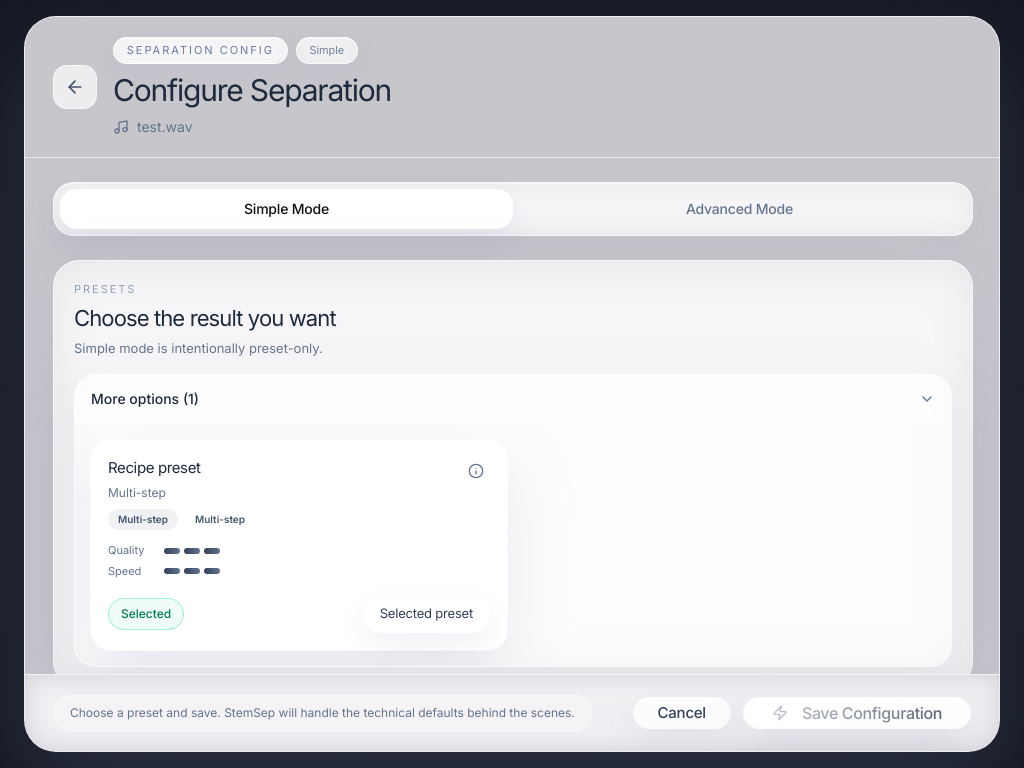
Test: Simple Mode UX (multi-step + details) › Preset cards use an info icon tooltip (no Details button)
The width and height of the screenshot is (1024, 768).
Hover over the button named "preset info: recipe preset" at point(476, 471), box top-left (462, 457), bottom-right (490, 485)
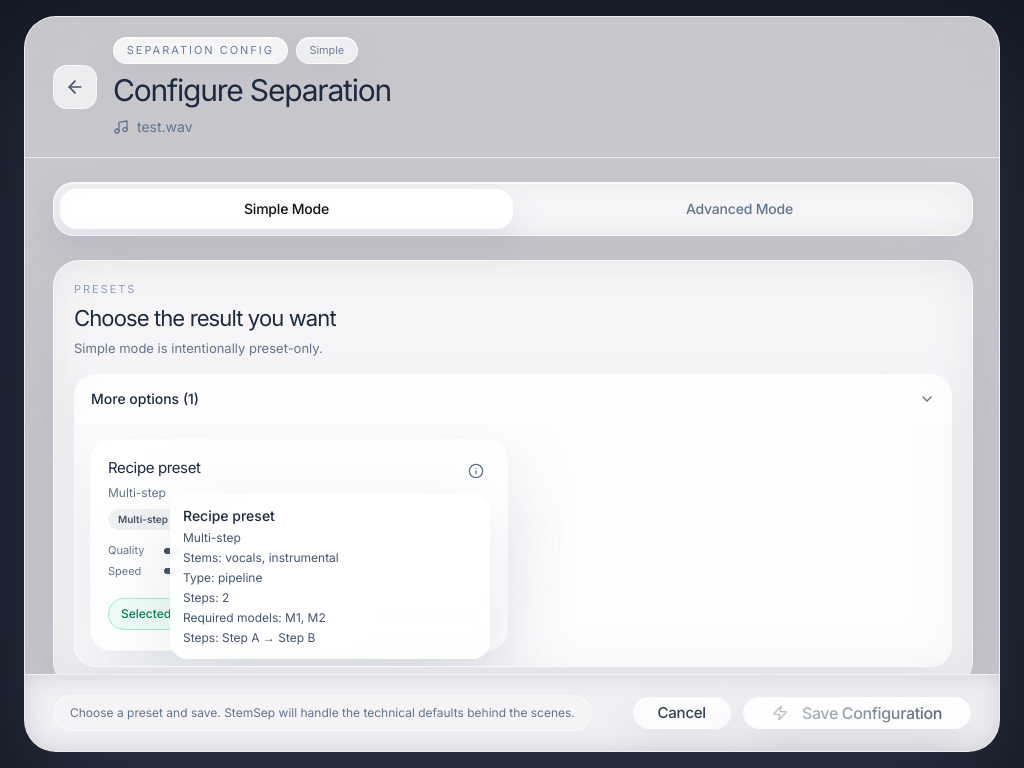
Check: the text "Required models: M1, M2" is shown, box top-left (183, 610), bottom-right (326, 625)
